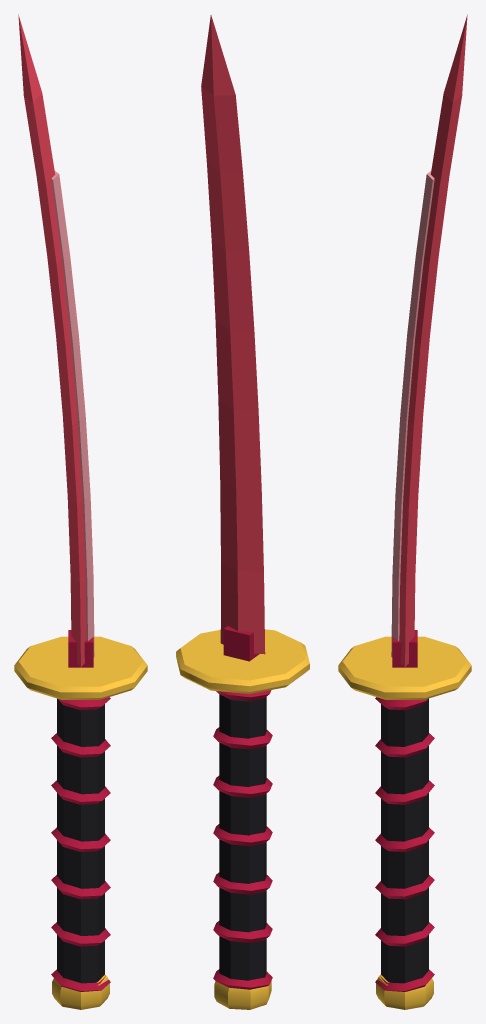
The model's file is RubyKatana.fbx.
3 views of the same model, side by side, from view 1: azimuth 90°, elevation 25°; view 2: azimuth 150°, elevation 25°; view 3: azimuth 270°, elevation 25° (orthographic). The views are drawn at different scales.
Visible parts, largest first — view 1: RubyKatana; view 2: RubyKatana; view 3: RubyKatana.
Boxes of the visible parts, left/top/right/bottom form: RubyKatana: left=14, top=14, right=147, bottom=1009; RubyKatana: left=176, top=15, right=309, bottom=1009; RubyKatana: left=338, top=14, right=471, bottom=1009.
Bounding box in the file's own units: 0.6087 × 5.22 × 0.64.
1 material, 1 textured.
